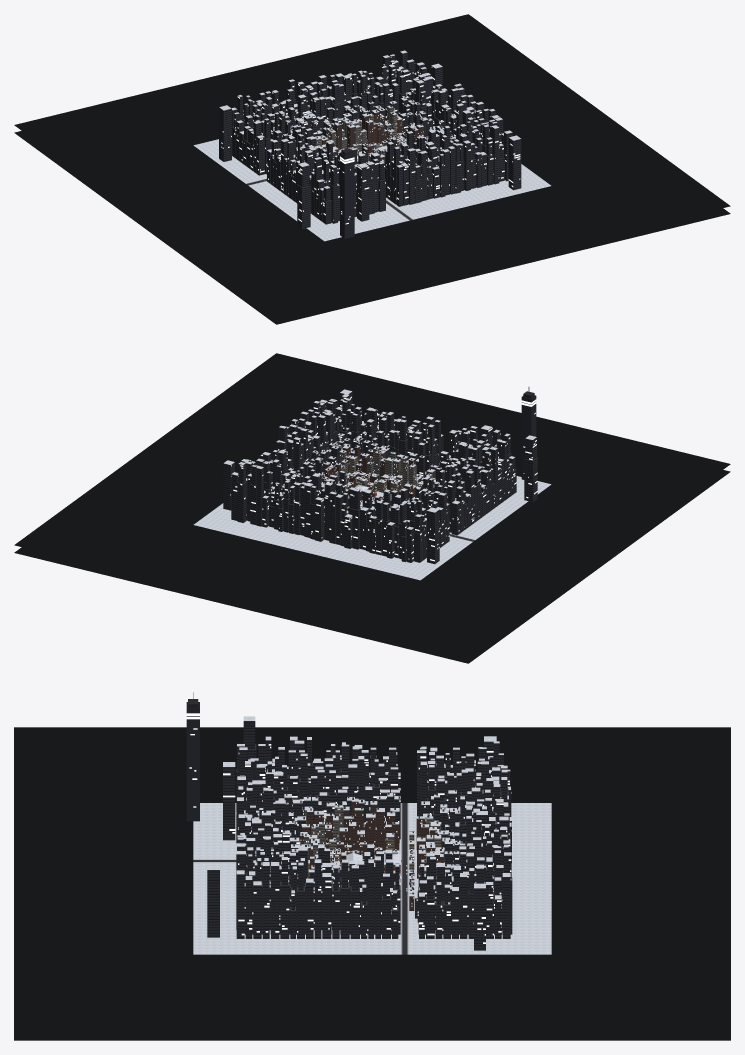
Rendered from DeathsGambitMaps_Campus.fbx.
3 renders of one model, top to bottom at view 1: azimuth 30°, elevation 25°; view 2: azimuth 150°, elevation 25°; view 3: azimuth 270°, elevation 25°, orthographic. The views are drawn at different scales.
Parts seen in each view (by area): view 1: Map_Campus_CoreDark_5, Map_Campus_CoreDark_3, Map_Campus_CoreDark_6, Map_Campus_CoreDark_4, Map_Campus_NightOffice_3, Map_Campus_NightOffice_1, Map_Campus_NightOffice_4, Map_Campus_NightOffice_2, Map_Campus_Snow_17, Map_Campus_Snow_19, Map_Campus_Snow_20, Map_Campus_Snow_18 (+3 smaller); view 2: Map_Campus_CoreDark_6, Map_Campus_CoreDark_4, Map_Campus_CoreDark_5, Map_Campus_CoreDark_3, Map_Campus_NightOffice_4, Map_Campus_NightOffice_2, Map_Campus_NightOffice_3, Map_Campus_NightOffice_1, Map_Campus_Snow_20, Map_Campus_Snow_18, Map_Campus_Snow_19, Map_Campus_Snow_17 (+4 smaller); view 3: Map_Campus_CoreDark_3, Map_Campus_CoreDark_4, Map_Campus_CoreDark_6, Map_Campus_CoreDark_5, Map_Campus_NightOffice_1, Map_Campus_NightOffice_2, Map_Campus_NightOffice_3, Map_Campus_Snow_17, Map_Campus_NightOffice_4, Map_Campus_Snow_20, Map_Campus_Snow_18, Map_Campus_Snow_19 (+7 smaller).
Part boxes in pixels (<box>): Map_Campus_CoreDark_5: <box>145,193,503,324</box>; Map_Campus_CoreDark_3: <box>438,110,730,269</box>; Map_Campus_CoreDark_6: <box>14,69,283,228</box>; Map_Campus_CoreDark_4: <box>241,14,599,132</box>; Map_Campus_NightOffice_3: <box>277,127,421,228</box>; Map_Campus_NightOffice_1: <box>407,89,521,201</box>; Map_Campus_NightOffice_4: <box>219,77,341,188</box>; Map_Campus_NightOffice_2: <box>327,52,461,131</box>; Map_Campus_Snow_17: <box>400,87,551,213</box>; Map_Campus_Snow_19: <box>269,128,437,241</box>; Map_Campus_Snow_20: <box>193,75,351,200</box>; Map_Campus_Snow_18: <box>327,50,461,154</box>; Map_Campus_CoreDark_6: <box>241,532,599,663</box>; Map_Campus_CoreDark_4: <box>14,449,306,608</box>; Map_Campus_CoreDark_5: <box>445,408,730,567</box>; Map_Campus_CoreDark_3: <box>145,353,503,471</box>; Map_Campus_NightOffice_4: <box>324,466,467,564</box>; Map_Campus_NightOffice_2: <box>223,427,337,541</box>; Map_Campus_NightOffice_3: <box>406,418,537,527</box>; Map_Campus_NightOffice_1: <box>287,391,420,465</box>; Map_Campus_Snow_20: <box>285,465,495,580</box>; Map_Campus_Snow_18: <box>193,425,337,547</box>; Map_Campus_Snow_19: <box>393,416,551,524</box>; Map_Campus_Snow_17: <box>283,389,420,478</box>; Map_Campus_CoreDark_3: <box>14,878,372,1040</box>; Map_Campus_CoreDark_4: <box>372,878,730,1040</box>; Map_Campus_CoreDark_6: <box>372,727,730,878</box>; Map_Campus_CoreDark_5: <box>14,727,372,878</box>; Map_Campus_NightOffice_1: <box>207,803,373,938</box>; Map_Campus_NightOffice_2: <box>374,805,512,950</box>; Map_Campus_NightOffice_3: <box>223,721,372,852</box>; Map_Campus_Snow_17: <box>193,800,400,954</box>; Map_Campus_NightOffice_4: <box>369,741,511,862</box>; Map_Campus_Snow_20: <box>363,736,551,893</box>; Map_Campus_Snow_18: <box>374,806,551,954</box>; Map_Campus_Snow_19: <box>193,716,375,878</box>.
Bounding box in the file's own units: 2800 × 587 × 2800.
Materials: 91 (68 with a texture image).
